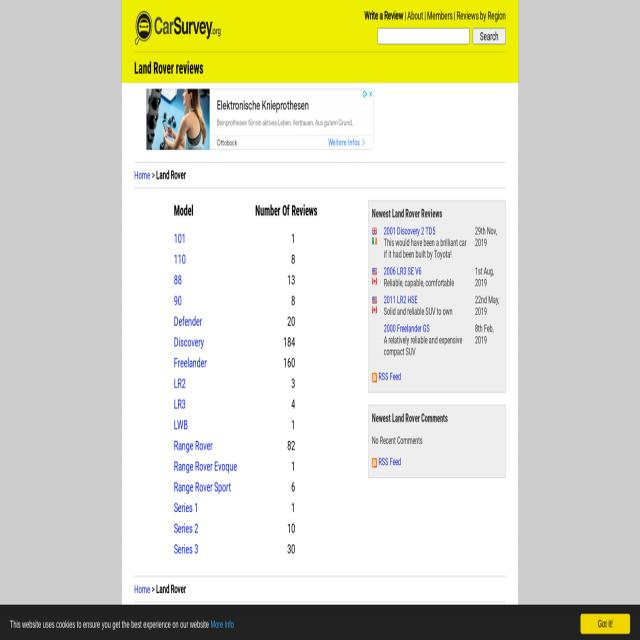button: (146, 88, 374, 150), (134, 9, 226, 46), (580, 614, 630, 632), (472, 28, 506, 45), (362, 89, 368, 100), (368, 89, 374, 99)
field: (378, 28, 470, 45)
